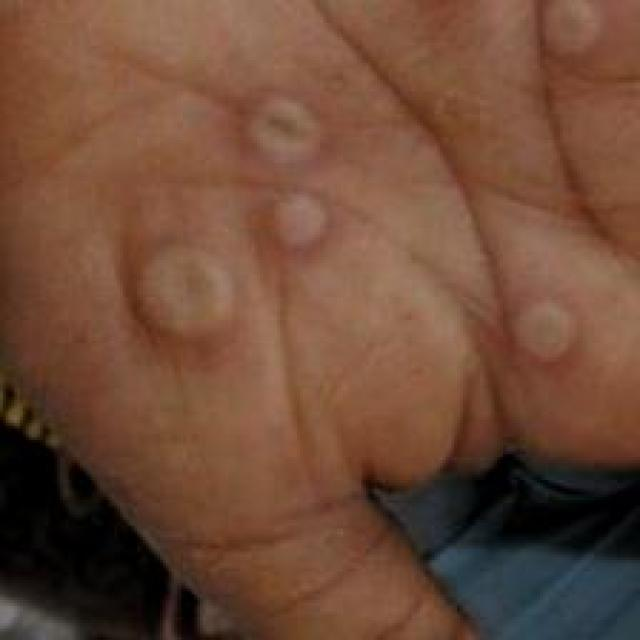monkeypox: (74, 63, 640, 497)
